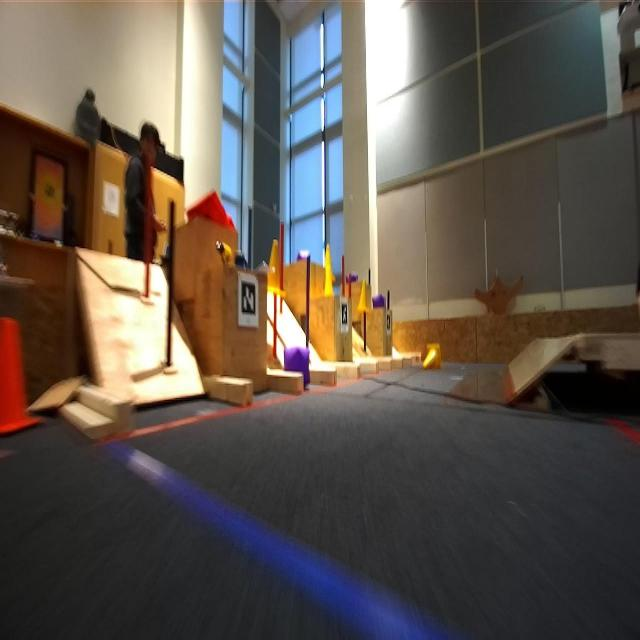frc_cone: (266, 240, 286, 293), (323, 248, 337, 297), (421, 343, 443, 373), (356, 278, 370, 318), (322, 242, 334, 282)
frc_cube: (283, 344, 310, 382), (374, 291, 386, 310), (345, 273, 359, 283)
